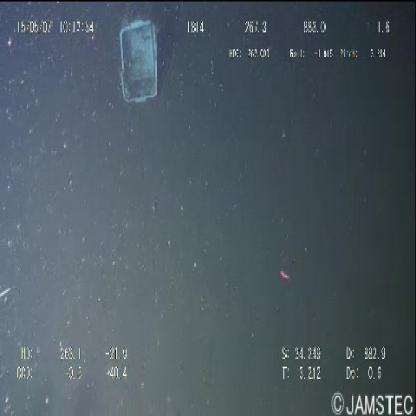Rác: (112, 10, 160, 107)
